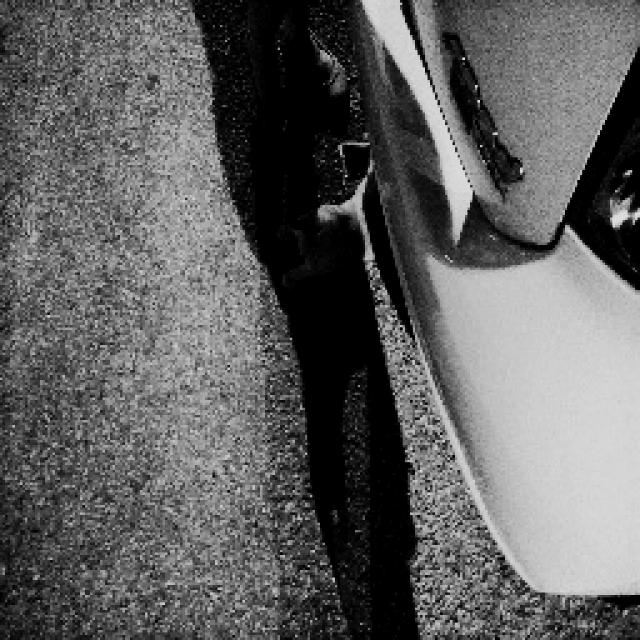cat: (272, 168, 377, 290)
